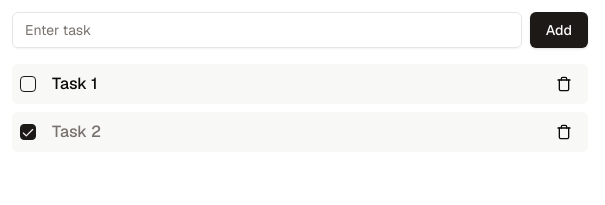
Test: TodoList › adds a new task
Type "New Task" into the field with placeholder "Enter task" at (267, 30), box [12,12,522,48]
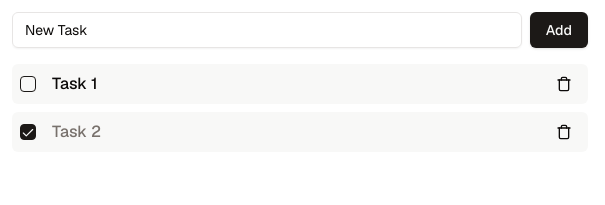
Click the button "Add" at (559, 30), box [530,12,588,48]
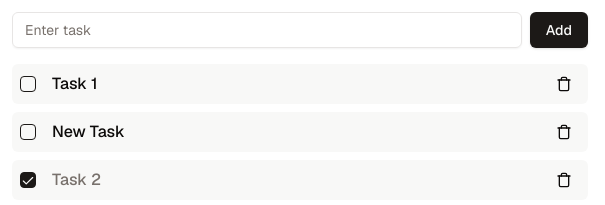
expect the text "New Task" is shown: met, box [52,120,125,144]
